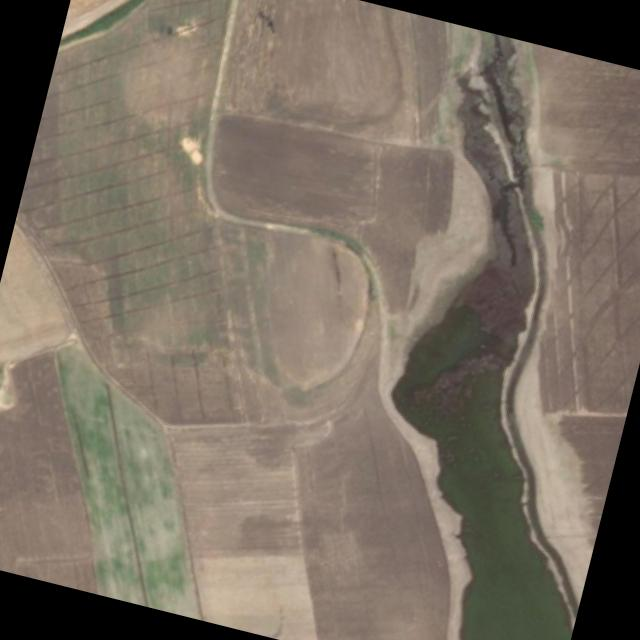ruins: (208, 30, 474, 212)
vegetation: (392, 355, 491, 438)
